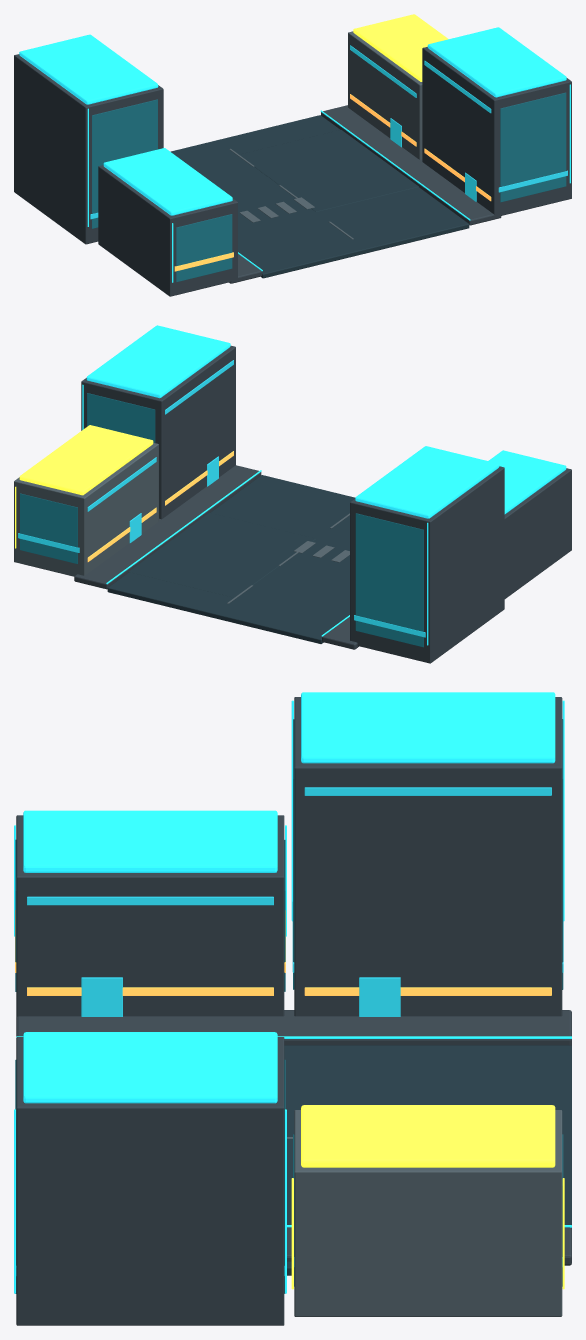
The model's file is corner_left_lod2.glb.
3 views of the same model, one above another, from view 1: azimuth 30°, elevation 25°; view 2: azimuth 150°, elevation 25°; view 3: azimuth 270°, elevation 25° (orthographic). The views are drawn at different scales.
Visible parts, largest first — view 1: ND_Batch_ND_CityConcrete, ND_Batch_ND_WetAsphalt, ND_Batch_ND_CityCyanMuted, ND_Batch_ND_DarkGlass, ND_Batch_ND_CityConcreteLight, ND_Batch_ND_RoadEdge, ND_Batch_ND_PackageGold, ND_Batch_ND_NeonGlass, ND_Batch_ND_WarmWindow; view 2: ND_Batch_ND_CityConcrete, ND_Batch_ND_WetAsphalt, ND_Batch_ND_CityCyanMuted, ND_Batch_ND_DarkGlass, ND_Batch_ND_CityConcreteLight, ND_Batch_ND_RoadEdge, ND_Batch_ND_PackageGold, ND_Batch_ND_NeonGlass, ND_Batch_ND_WarmWindow; view 3: ND_Batch_ND_CityConcrete, ND_Batch_ND_CityCyanMuted, ND_Batch_ND_CityConcreteLight, ND_Batch_ND_WetAsphalt, ND_Batch_ND_PackageGold, ND_Batch_ND_RoadEdge, ND_Batch_ND_NeonGlass, ND_Batch_ND_WarmWindow, ND_Batch_ND_DarkGlass.
Boxes of the visible parts, left/top/right/bottom form: ND_Batch_ND_CityConcrete: left=14, top=47, right=571, bottom=296; ND_Batch_ND_WetAsphalt: left=170, top=115, right=469, bottom=278; ND_Batch_ND_CityCyanMuted: left=19, top=27, right=570, bottom=282; ND_Batch_ND_DarkGlass: left=92, top=92, right=566, bottom=282; ND_Batch_ND_CityConcreteLight: left=229, top=31, right=422, bottom=239; ND_Batch_ND_RoadEdge: left=229, top=105, right=501, bottom=283; ND_Batch_ND_PackageGold: left=353, top=14, right=448, bottom=81; ND_Batch_ND_NeonGlass: left=90, top=45, right=567, bottom=219; ND_Batch_ND_WarmWindow: left=174, top=94, right=491, bottom=271; ND_Batch_ND_CityConcrete: left=81, top=345, right=571, bottom=663; ND_Batch_ND_WetAsphalt: left=107, top=475, right=355, bottom=643; ND_Batch_ND_CityCyanMuted: left=82, top=325, right=566, bottom=645; ND_Batch_ND_DarkGlass: left=20, top=393, right=423, bottom=647; ND_Batch_ND_CityConcreteLight: left=14, top=442, right=349, bottom=603; ND_Batch_ND_RoadEdge: left=74, top=465, right=358, bottom=649; ND_Batch_ND_PackageGold: left=15, top=425, right=153, bottom=548; ND_Batch_ND_NeonGlass: left=18, top=360, right=425, bottom=637; ND_Batch_ND_WarmWindow: left=87, top=451, right=233, bottom=561; ND_Batch_ND_CityConcrete: left=16, top=697, right=562, bottom=1325; ND_Batch_ND_CityCyanMuted: left=14, top=692, right=571, bottom=1293; ND_Batch_ND_CityConcreteLight: left=287, top=1110, right=562, bottom=1316; ND_Batch_ND_WetAsphalt: left=284, top=1045, right=571, bottom=1275; ND_Batch_ND_PackageGold: left=291, top=1105, right=564, bottom=1289; ND_Batch_ND_RoadEdge: left=16, top=1010, right=571, bottom=1265; ND_Batch_ND_NeonGlass: left=16, top=787, right=563, bottom=1275; ND_Batch_ND_WarmWindow: left=15, top=910, right=551, bottom=995; ND_Batch_ND_DarkGlass: left=15, top=719, right=563, bottom=1293.
Size of the model in its own units: 31.9 by 10.8 by 20.09.
